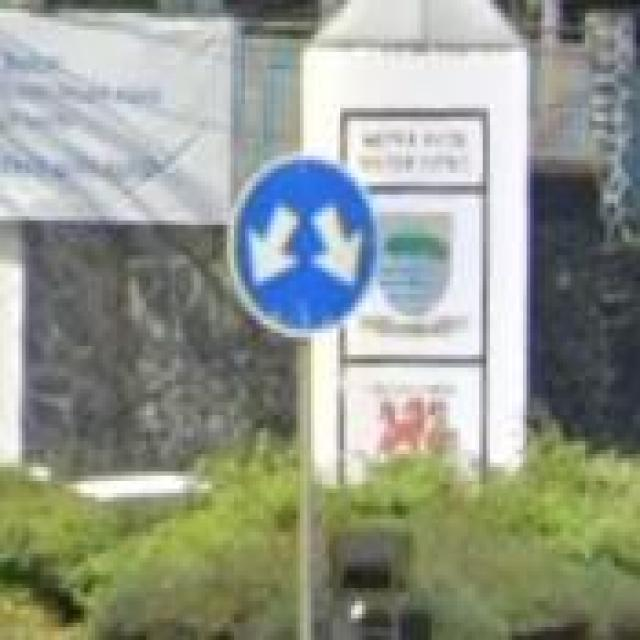traffic sign: (227, 152, 380, 338)
